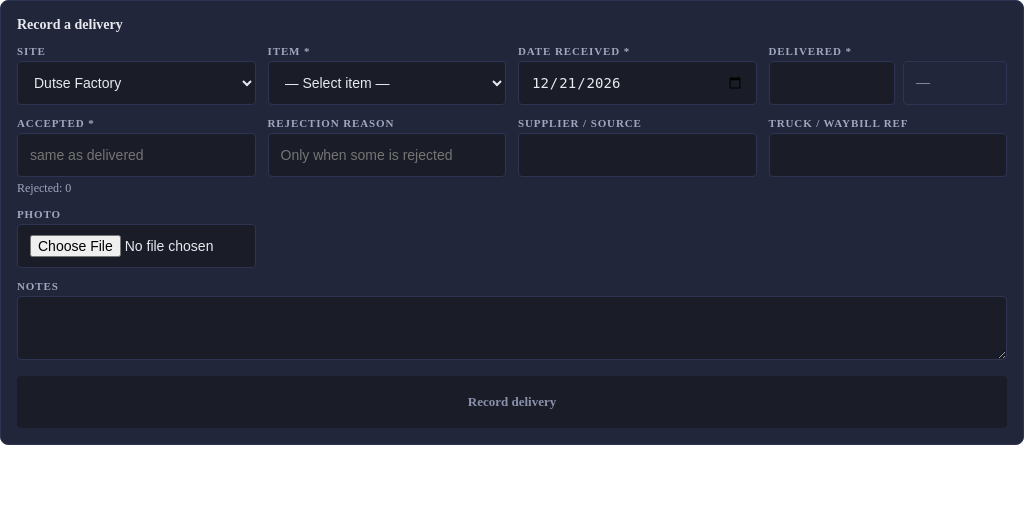
Scenario: ReceivingForm › shows the RPC error instead of swallowing it
Step 1. Select "Cement (bags)" in the dropdown labelled "Item *" → {"x": 387, "y": 83}, box [268,61,506,105]
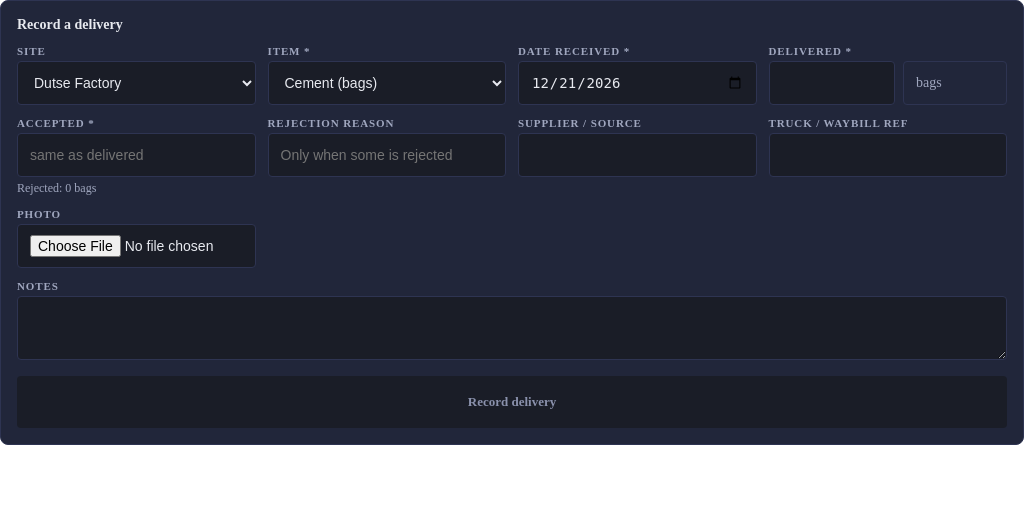
Step 2. Type "5" into the number field labelled "Delivered *" → {"x": 832, "y": 83}, box [768,61,895,105]
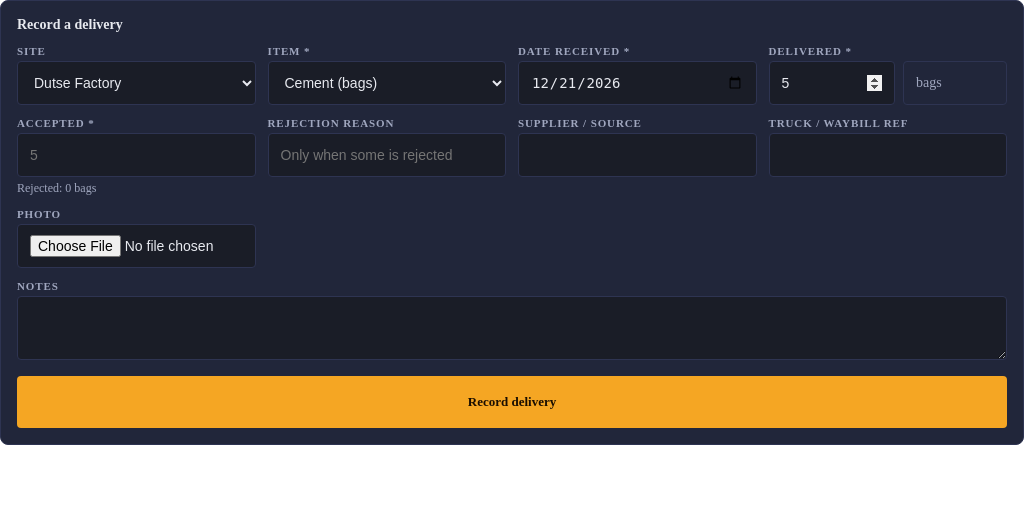
Step 3. Click the button "Record delivery" → {"x": 512, "y": 402}, box [17,376,1007,428]
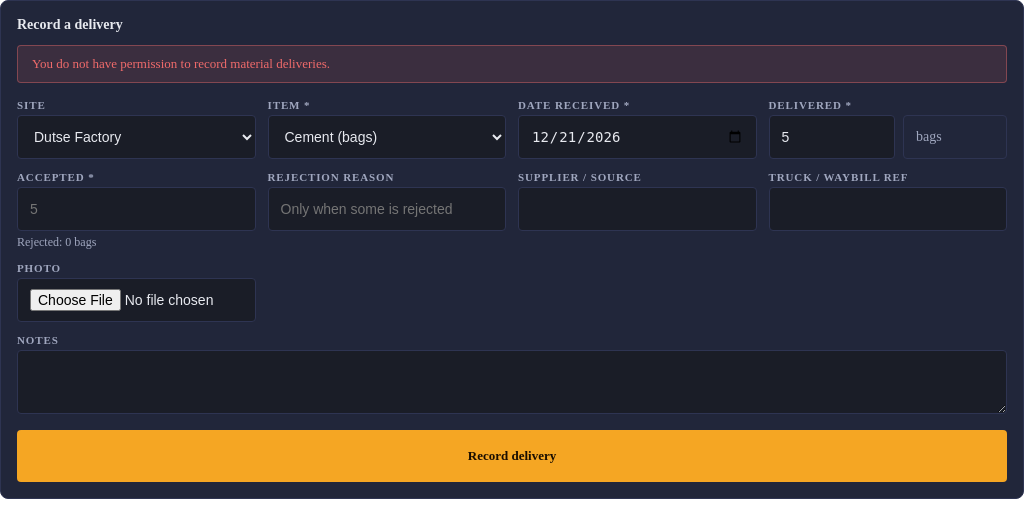
expect the message reads "You do not have permission to record material deliveries.": met, box [32,56,330,71]
